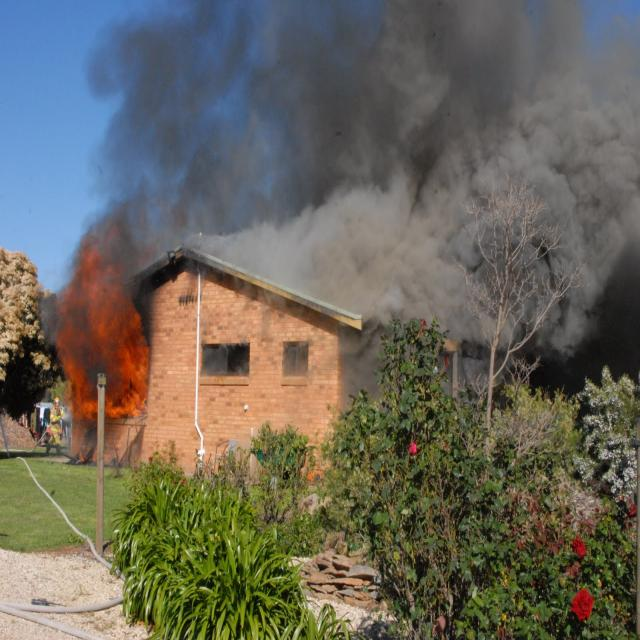fire: (74, 294, 145, 412)
smoke: (388, 95, 590, 293)
